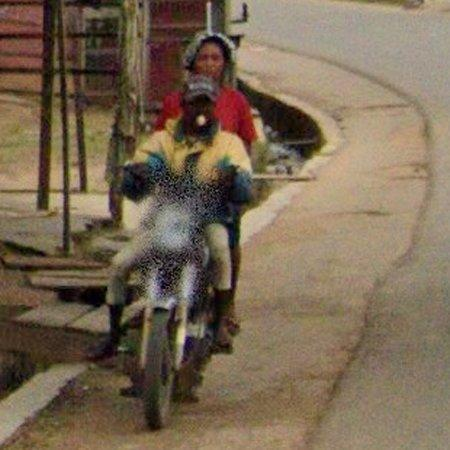motorcycles: (141, 184, 212, 431)
